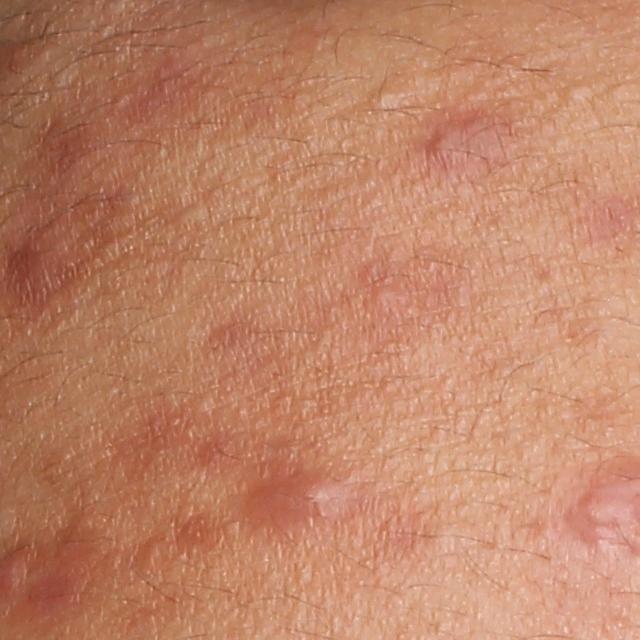atrophic_scar: (2, 195, 131, 305)
comedo: (369, 86, 402, 117), (142, 539, 171, 570), (175, 201, 210, 225), (566, 84, 593, 102), (371, 286, 396, 305)
papule: (253, 469, 348, 520), (429, 117, 480, 160)
